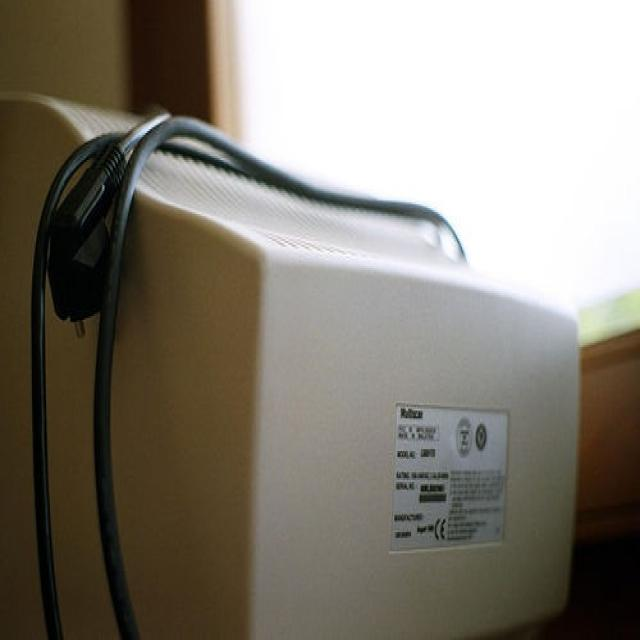tvmonitor: (0, 89, 580, 638)
